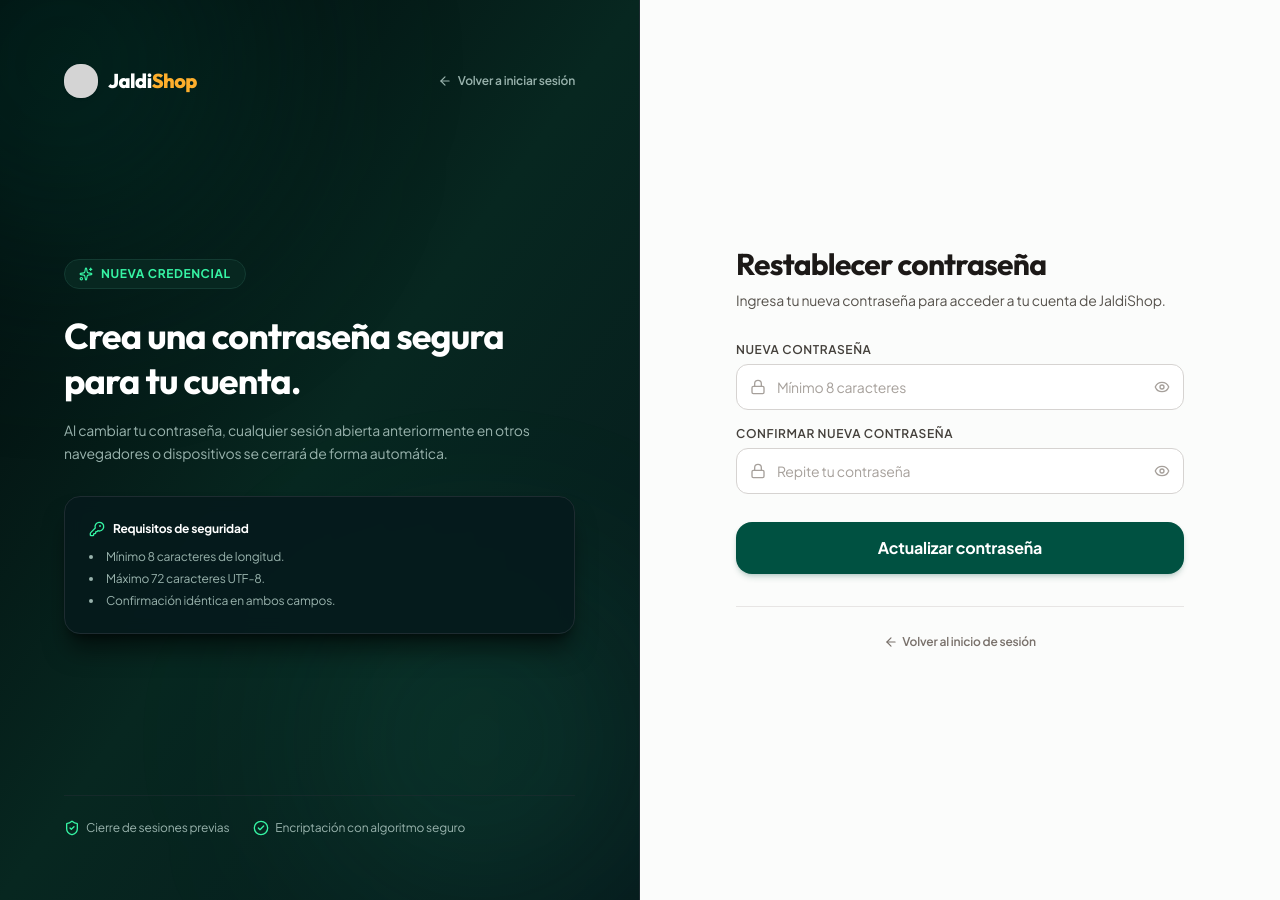
ResetPasswordForm Component › submits valid new password and transitions to success state without auto-login
The width and height of the screenshot is (1280, 900).
Type "NuevaContrasenaSegura2026" into the password field labelled "Nueva contraseña".
click(960, 386); type("NuevaContrasenaSegura2026")  # box [736, 364, 1184, 410]
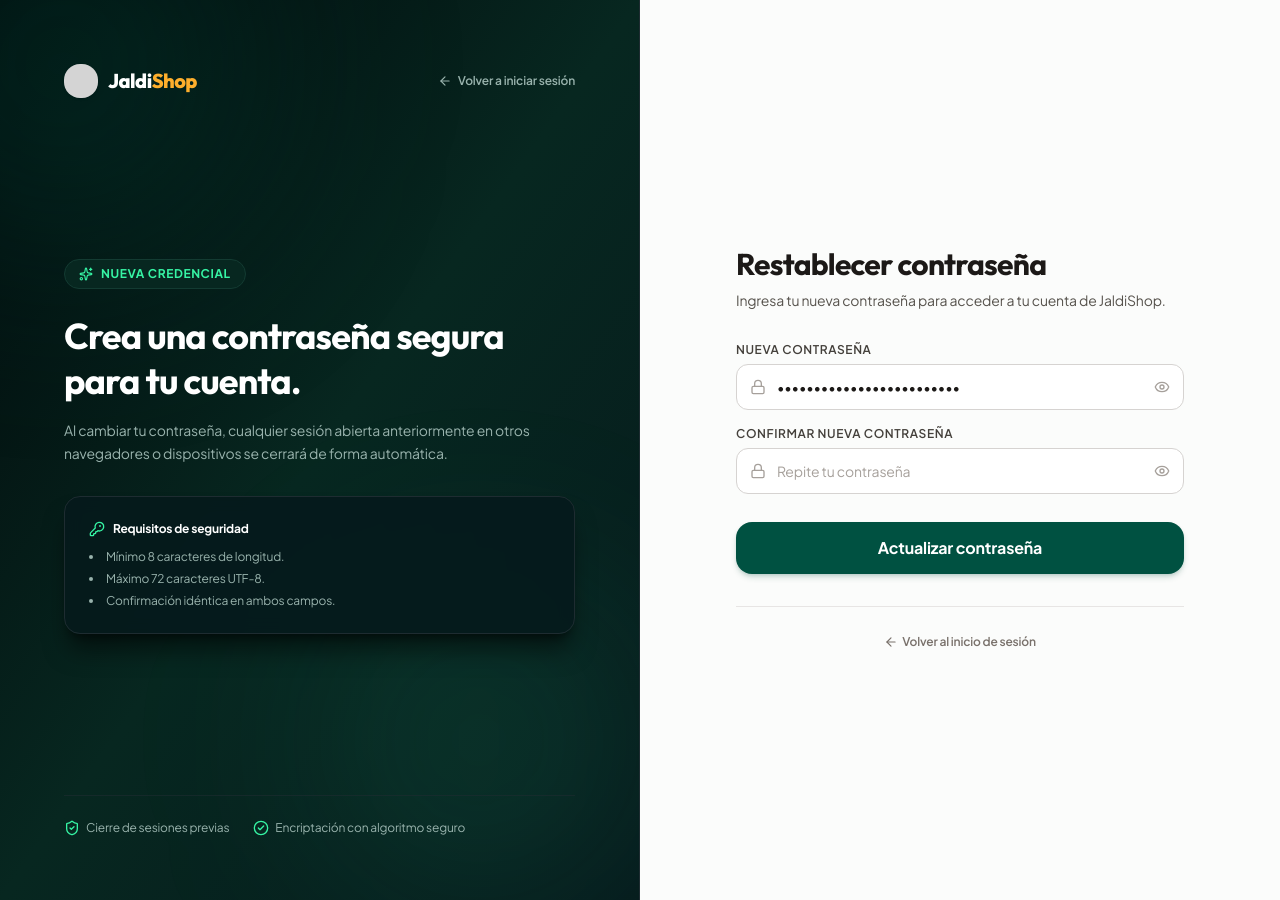
Type "NuevaContrasenaSegura2026" into the password field labelled "Confirmar nueva contraseña".
click(960, 470); type("NuevaContrasenaSegura2026")  # box [736, 448, 1184, 494]
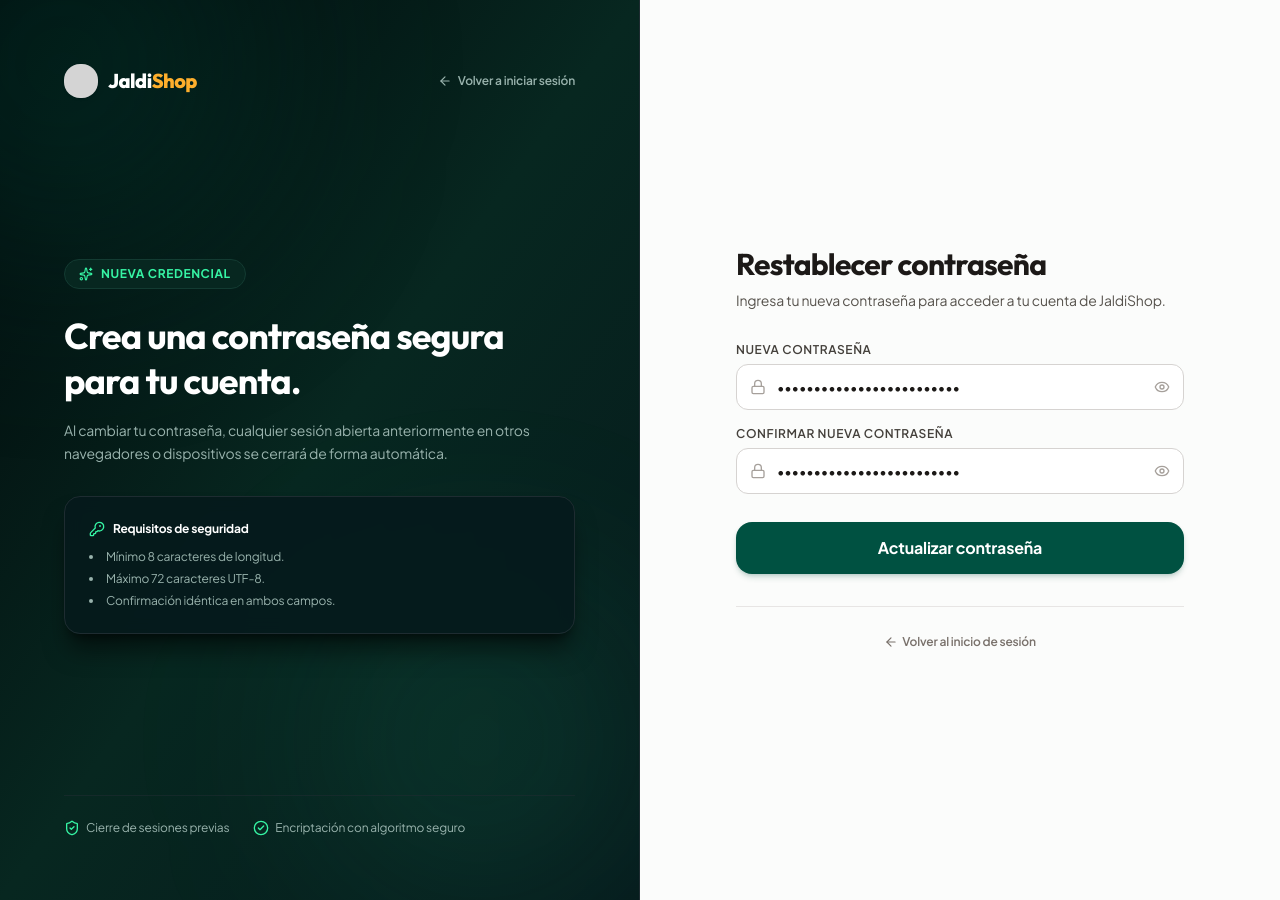
Click the button "Actualizar contraseña".
click(960, 548)  # box [736, 522, 1184, 574]
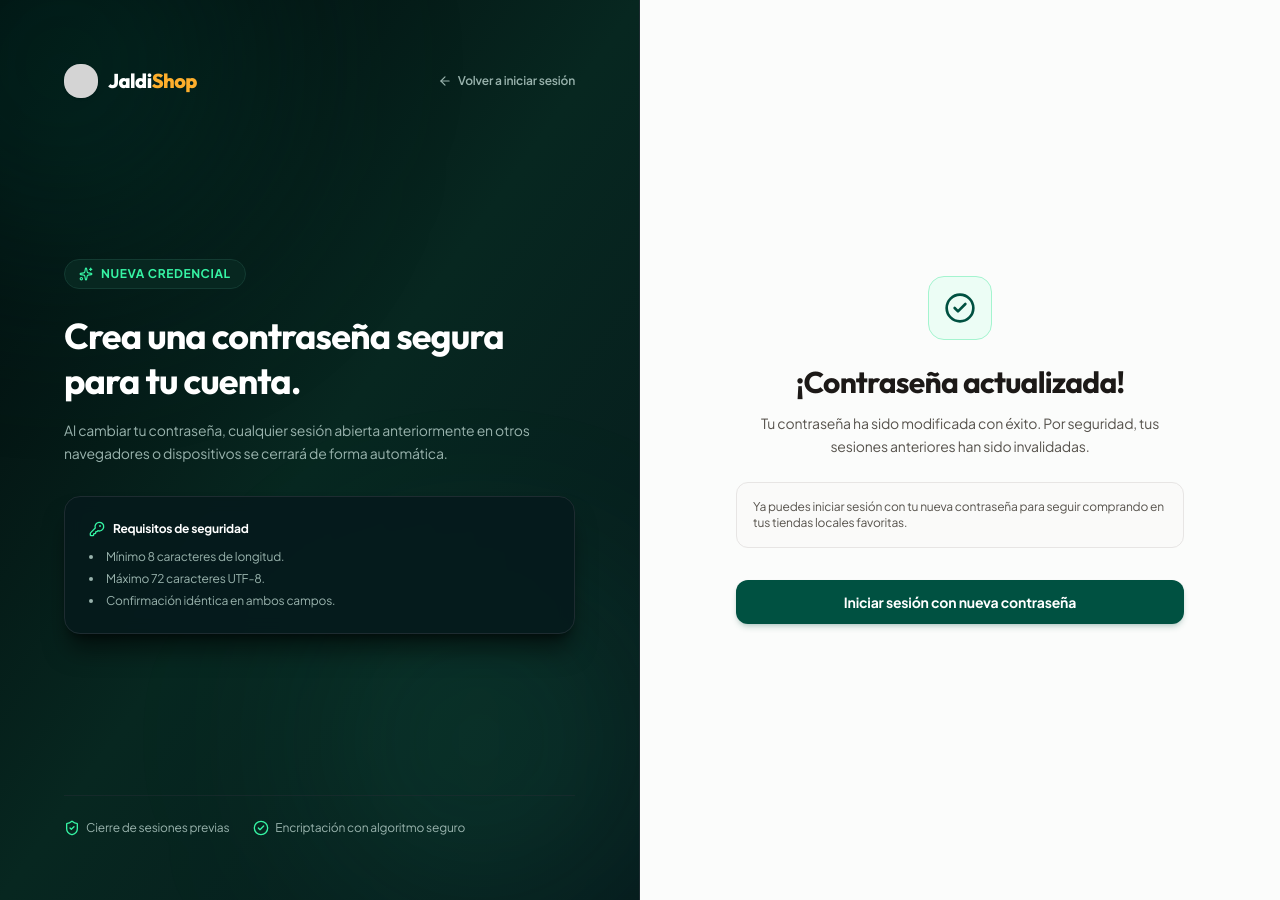
Result: the element with test id "reset-password-success" is shown at [736, 276, 1184, 624]
Result: the heading "¡Contraseña actualizada!" is shown at [796, 363, 1124, 401]
